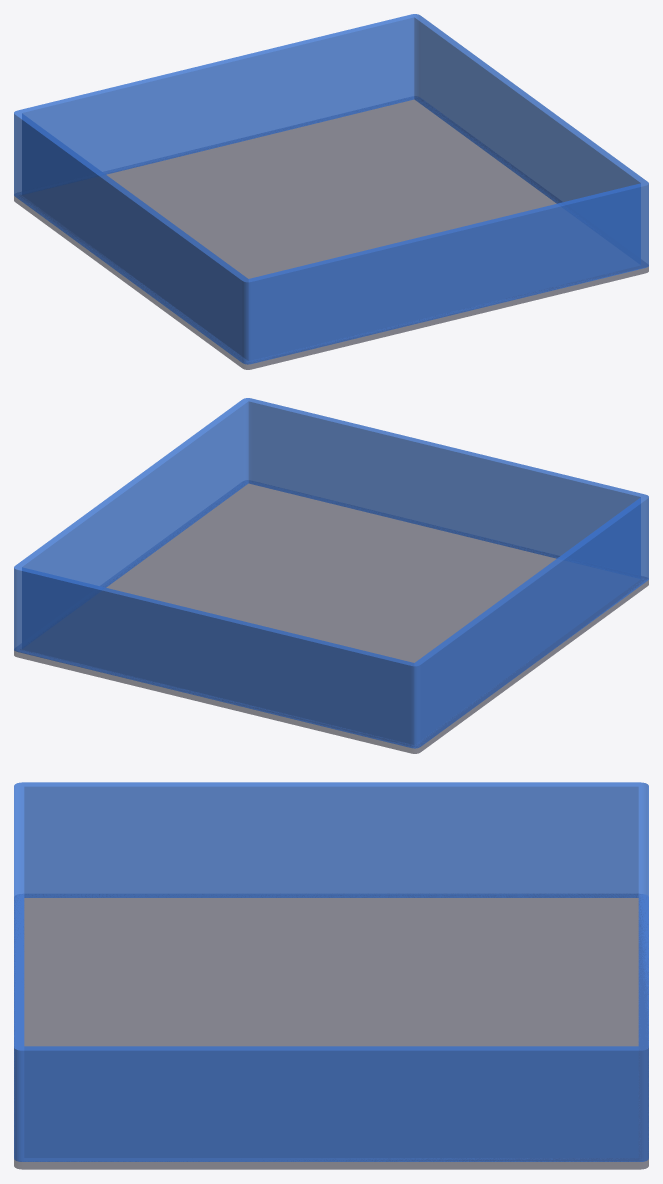
File: cloud-vm.glb
3 views of the same model, one above another, from view 1: azimuth 30°, elevation 25°; view 2: azimuth 150°, elevation 25°; view 3: azimuth 270°, elevation 25° (orthographic). The views are drawn at different scales.
Bounding box in the file's own units: 6.2 × 1.28 × 6.2.
